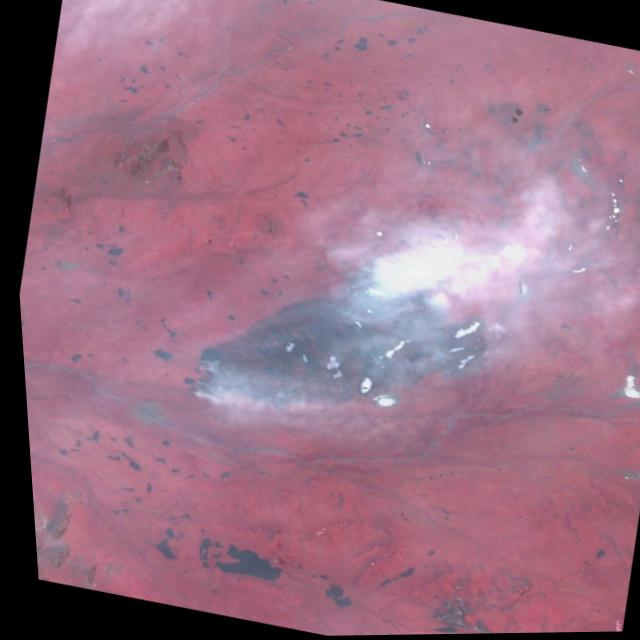fire: (319, 246, 452, 317), (164, 352, 224, 405)
